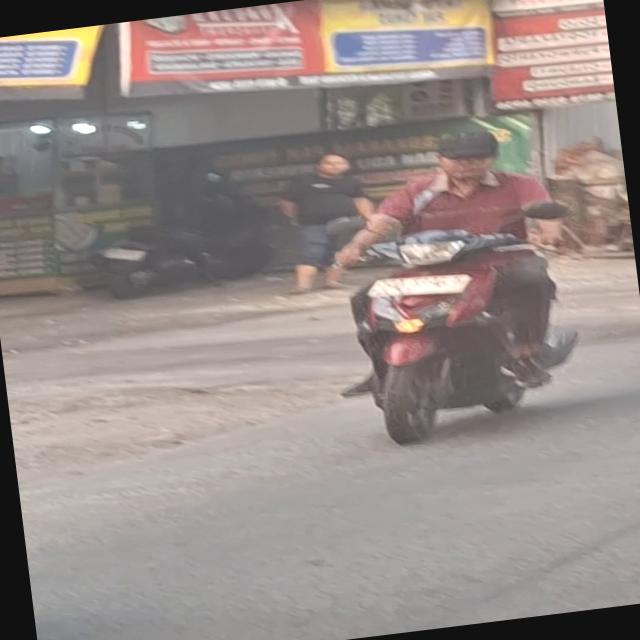WithoutHelmet: (301, 120, 593, 461)
